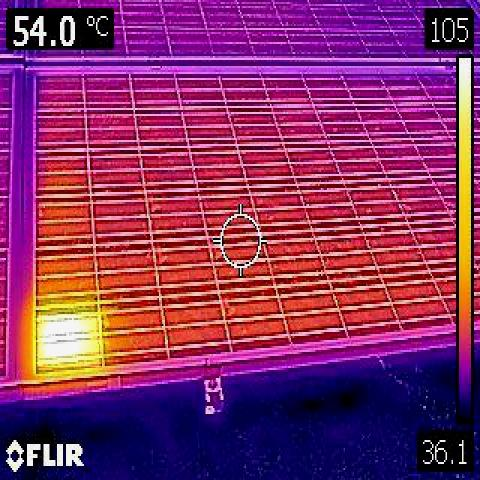fault: (37, 315, 101, 367)
